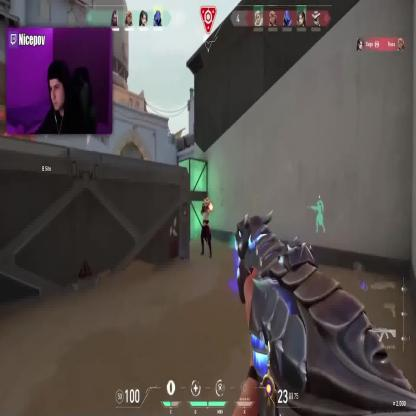enemy: (200, 196, 213, 258)
enemy_head: (204, 196, 210, 208)
